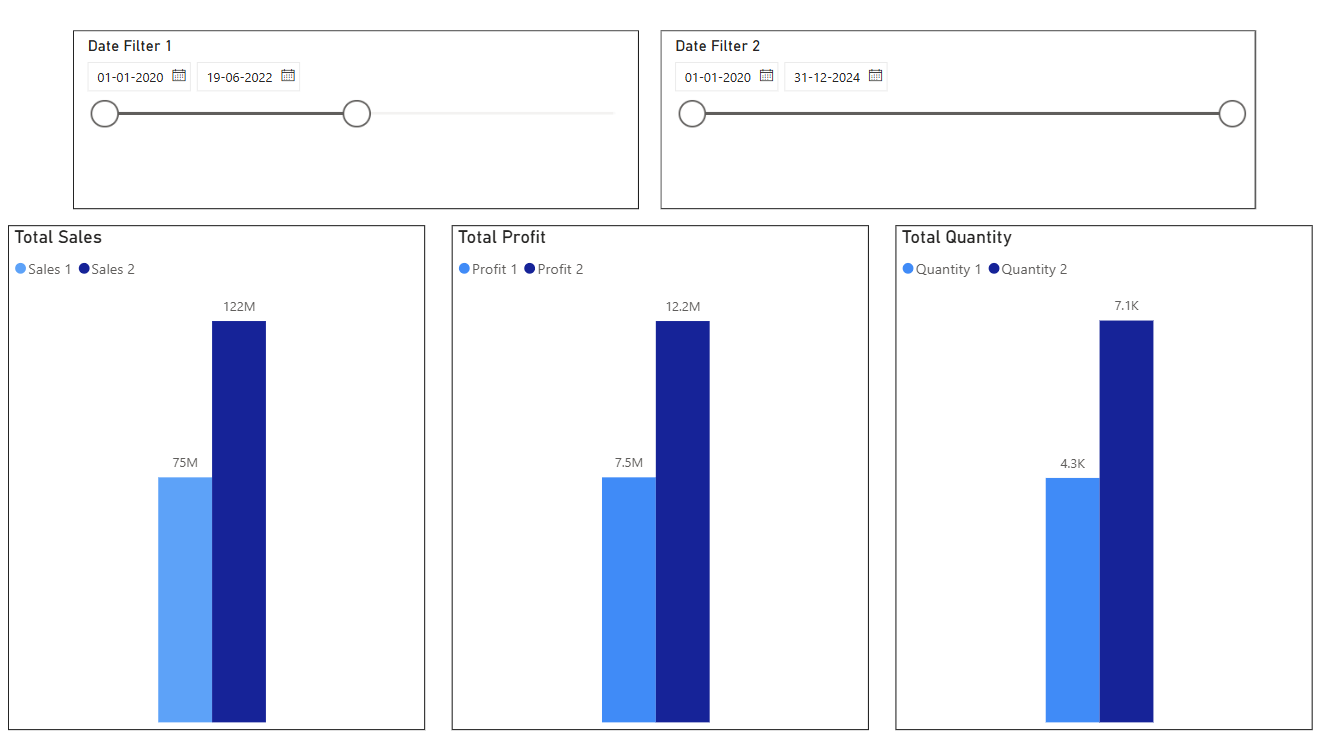

The page's visual inventory and layout, read from the dashboard file:
{"tool":"powerbi","page":{"name":"Comparison Sales/Profit/Quantity","canvas":[1280,720],"ordinal":2},"visuals":[{"type":"slicer","fields":{"Values":["Date Table 1.Date"]},"box":[33,37.9,525.8,166.3],"z":0},{"type":"slicer","fields":{"Values":["Date table 2.Date"]},"box":[700.7,37.9,553.9,166.3],"z":1000},{"type":"clusteredColumnChart","title":"Total Sales","fields":{"Y":["Sum(Fact Table.Net Sales)","Date Table 1.Sum of Net Sales"]},"box":[33,234.8,387.6,469.6],"z":2000},{"type":"clusteredColumnChart","title":"Total Profit","fields":{"Y":["Sum(Fact Table.Profit)","Measures Table.Total Profit"]},"box":[445.1,234.8,387.6,469.6],"z":3000},{"type":"clusteredColumnChart","title":"Total Quantity","fields":{"Y":["Sum(Fact Table.Units Sold)","Measures Table.Total Quantity"]},"box":[858.4,234.8,387.6,469.6],"z":4000}]}

Visuals, with their boxes in screenshot pixels (x1, y1, x2, y2), scaled from the page's 1280x720 canvas onto the 1327x742 screenshot:
slicer - Date Table 1.Date: [x1=34, y1=39, x2=579, y2=210]
slicer - Date table 2.Date: [x1=726, y1=39, x2=1301, y2=210]
"Total Sales" clusteredColumnChart: [x1=34, y1=242, x2=436, y2=726]
"Total Profit" clusteredColumnChart: [x1=461, y1=242, x2=863, y2=726]
"Total Quantity" clusteredColumnChart: [x1=890, y1=242, x2=1292, y2=726]
